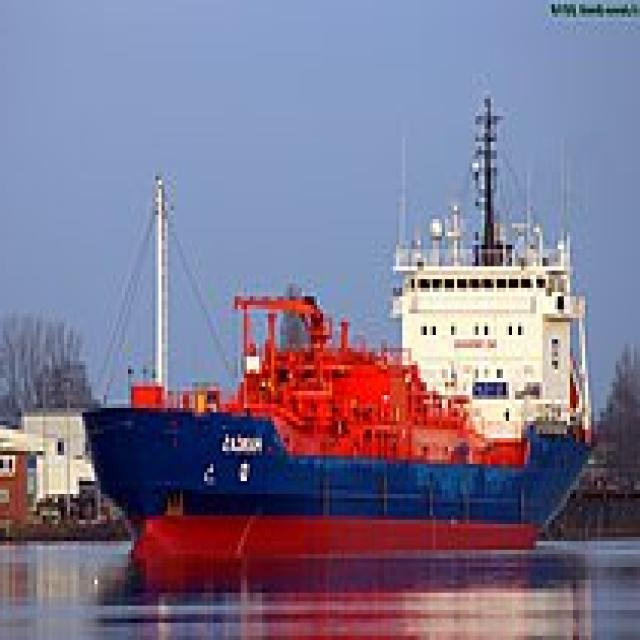Tanker: (82, 90, 600, 563)
